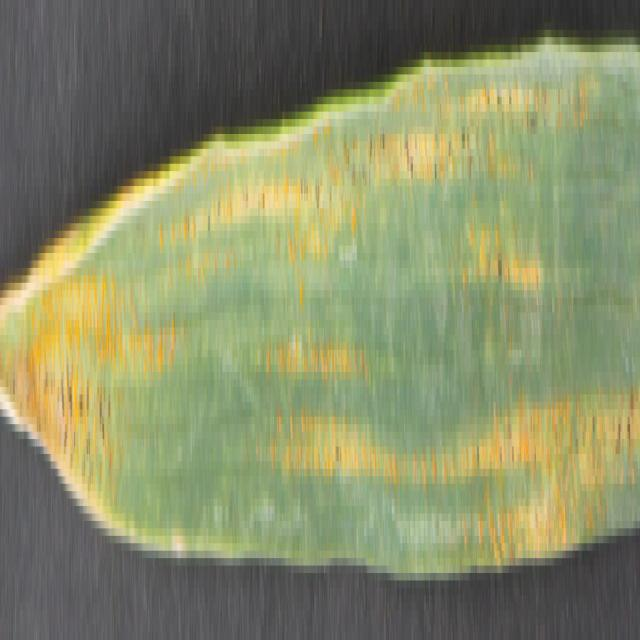leaf rust: (1, 45, 637, 558)
